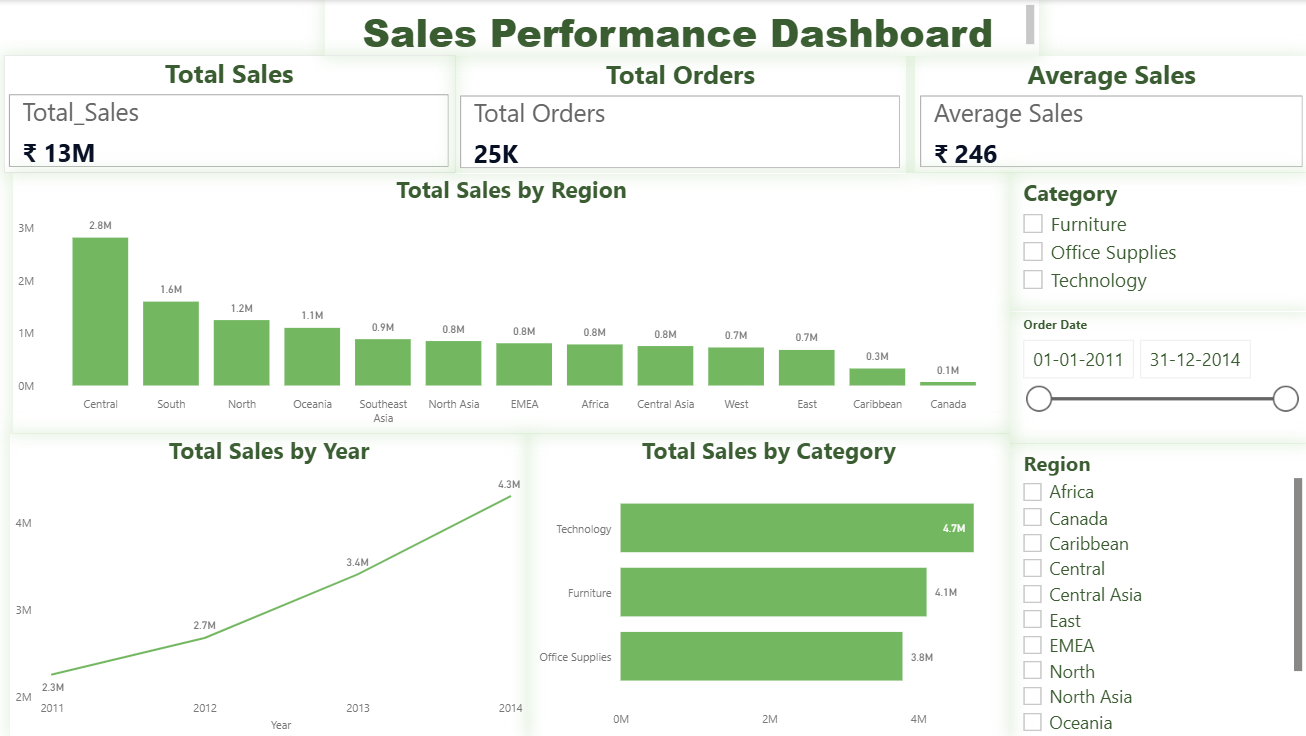

What the dashboard file says about the page in this screenshot:
{"tool":"powerbi","page":{"name":"Page 1","canvas":[1280,720],"ordinal":0},"visuals":[{"type":"cardVisual","title":"Total Sales","fields":{"Data":["superstore.Total_Sales"]},"box":[5.5,53.5,440.5,115.3],"z":0},{"type":"cardVisual","title":"Average Sales","fields":{"Data":["superstore.Average Sales"]},"box":[896.1,54.9,384.2,113.9],"z":1000},{"type":"barChart","title":"Total Sales by Category","fields":{"Y":["superstore.Total_Sales"],"Category":["superstore.Category"]},"box":[517.3,424,472,296.4],"z":3000},{"type":"lineChart","title":"Total Sales by Year","fields":{"Category":["superstore.Order.Date.Variation.Date Hierarchy.Year","superstore.Order.Date.Variation.Date Hierarchy.Quarter","superstore.Order.Date.Variation.Date Hierarchy.Month","superstore.Order.Date.Variation.Date Hierarchy.Day"],"Y":["superstore.Total_Sales"]},"box":[11,424,506.3,296.4],"z":4000},{"type":"columnChart","title":"Total Sales by Region","fields":{"Category":["superstore.Region"],"Y":["superstore.Total_Sales"]},"box":[13.7,168.8,960.6,255.2],"z":5000},{"type":"slicer","fields":{"Values":["superstore.Category"]},"box":[989.4,168.8,290.9,135.8],"z":5001},{"type":"slicer","fields":{"Values":["superstore.Order.Date"]},"box":[989.4,304.6,290.9,129],"z":5002},{"type":"slicer","fields":{"Values":["superstore.Region"]},"box":[989.4,433.6,290.9,286.8],"z":5003},{"type":"textbox","box":[363.6,0,644.9,54.9],"z":5004},{"type":"cardVisual","title":"Total Orders","fields":{"Data":["superstore.Total Orders"]},"box":[446,54.9,440.5,115.3],"z":5005}]}

Visuals, with their boxes in screenshot pixels (x1, y1, x2, y2), scaled from the page's 1280x720 canvas onto the 1306x736 screenshot:
"Total Sales" cardVisual: (left=6, top=55, right=455, bottom=173)
"Average Sales" cardVisual: (left=914, top=56, right=1305, bottom=173)
"Total Sales by Category" barChart: (left=528, top=433, right=1009, bottom=735)
"Total Sales by Year" lineChart: (left=11, top=433, right=528, bottom=735)
"Total Sales by Region" columnChart: (left=14, top=173, right=994, bottom=433)
slicer - superstore.Category: (left=1009, top=173, right=1305, bottom=311)
slicer - superstore.Order.Date: (left=1009, top=311, right=1305, bottom=443)
slicer - superstore.Region: (left=1009, top=443, right=1305, bottom=735)
textbox: (left=371, top=0, right=1029, bottom=56)
"Total Orders" cardVisual: (left=455, top=56, right=905, bottom=174)
